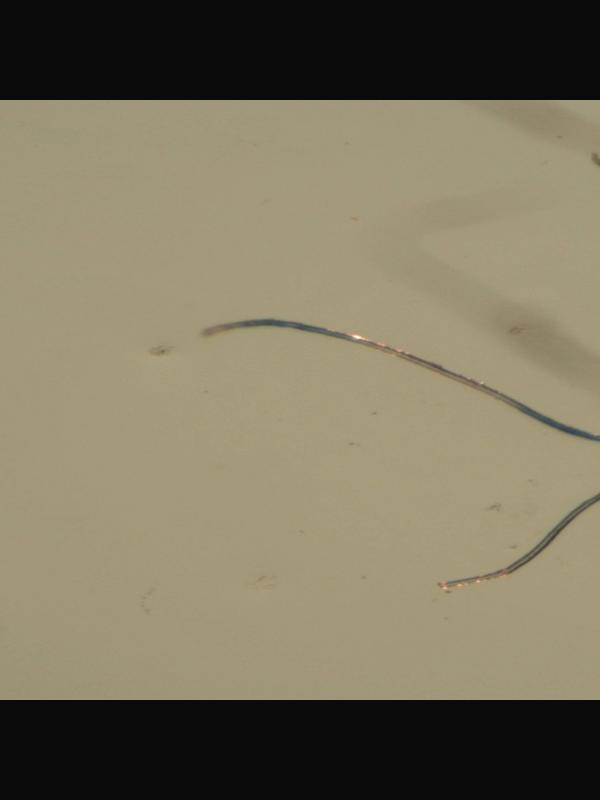microplastic: (198, 317, 600, 593)
